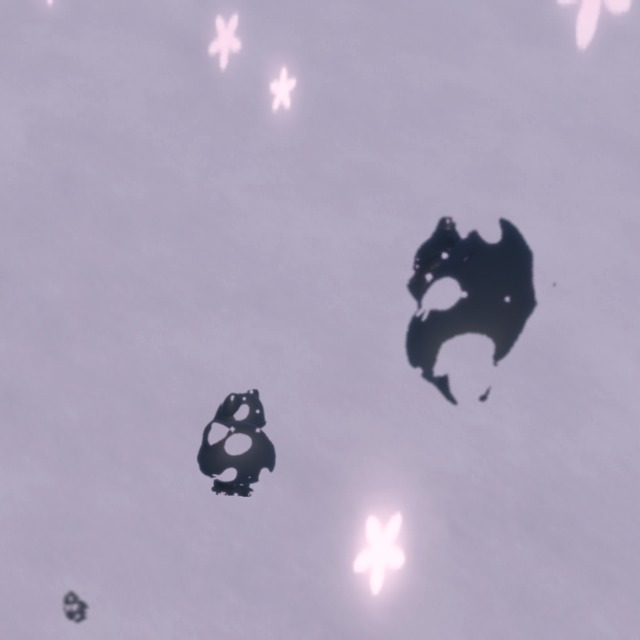urso_preto: (341, 158, 597, 453), (191, 378, 289, 499), (55, 585, 95, 628)
